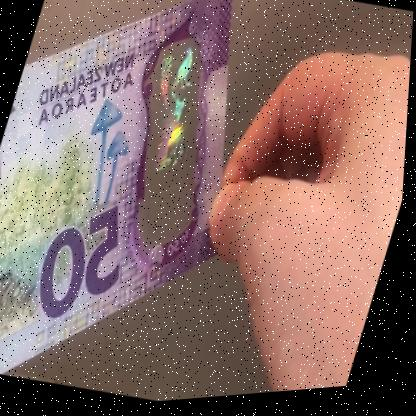50B: (114, 37, 231, 237)
